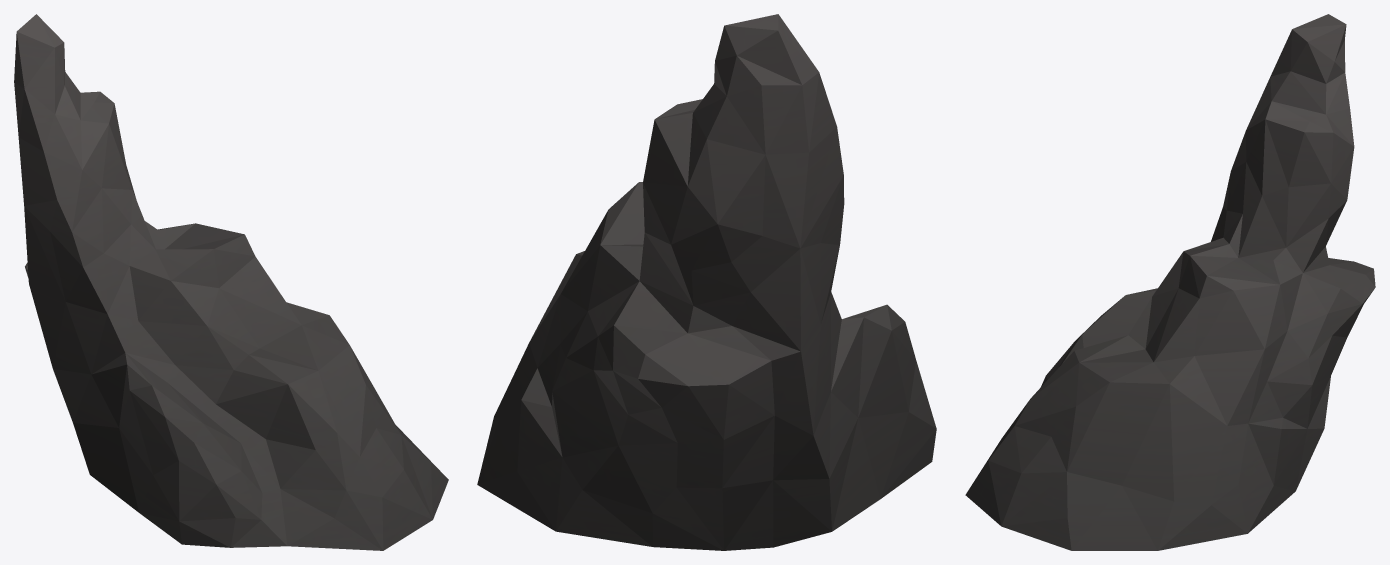
Rendered from ZLP_Rock_D_19.FBX.
3 renders of one model, left to right at view 1: azimuth 30°, elevation 25°; view 2: azimuth 150°, elevation 25°; view 3: azimuth 270°, elevation 25°, orthographic. The views are drawn at different scales.
Visible parts, largest first — view 1: ZLP_Rock_D_19; view 2: ZLP_Rock_D_19; view 3: ZLP_Rock_D_19.
Part boxes in pixels (left/top/right/bottom): ZLP_Rock_D_19: left=14, top=14, right=448, bottom=550; ZLP_Rock_D_19: left=477, top=14, right=936, bottom=550; ZLP_Rock_D_19: left=965, top=14, right=1375, bottom=550.
Bounding box in the file's own units: 219 × 289 × 266.
